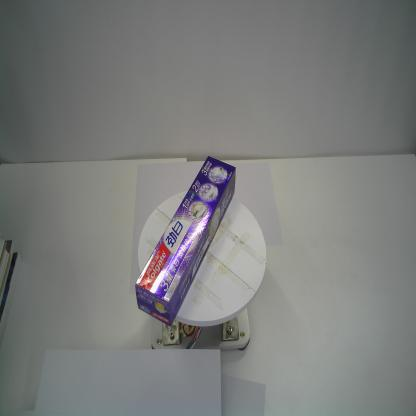Personal Hygiene: (134, 154, 238, 327)
